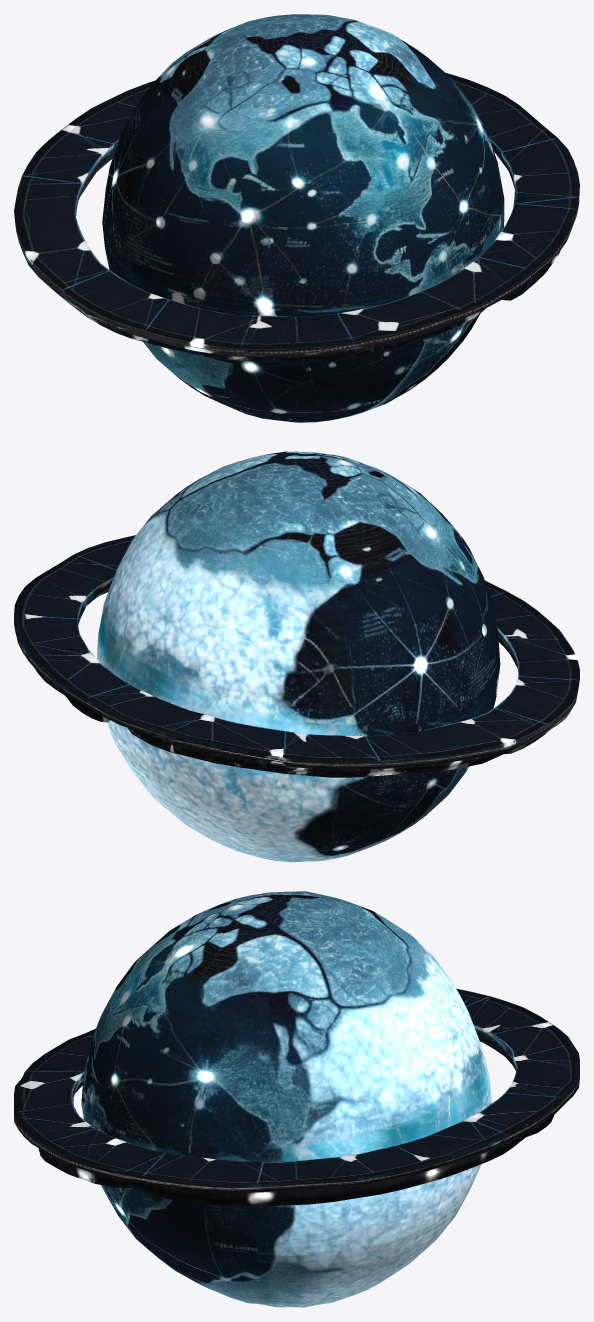
Rendered from 019fde80-3c0a-71e0-bf8e-ebe4141c9272.orig.glb.
The picture shows the model from 3 angles, top to bottom: view 1: azimuth 30°, elevation 25°; view 2: azimuth 150°, elevation 25°; view 3: azimuth 270°, elevation 25°; orthographic projection.
Visible parts, largest first — view 1: mesh_node; view 2: mesh_node; view 3: mesh_node.
Part boxes in pixels (box(x1,y1,x2,y2)): mesh_node: box(14, 14, 579, 422); mesh_node: box(14, 451, 579, 862); mesh_node: box(14, 891, 579, 1307).
Size of the model in its own units: 1 by 0.7402 by 1.
1 material, 1 textured.
